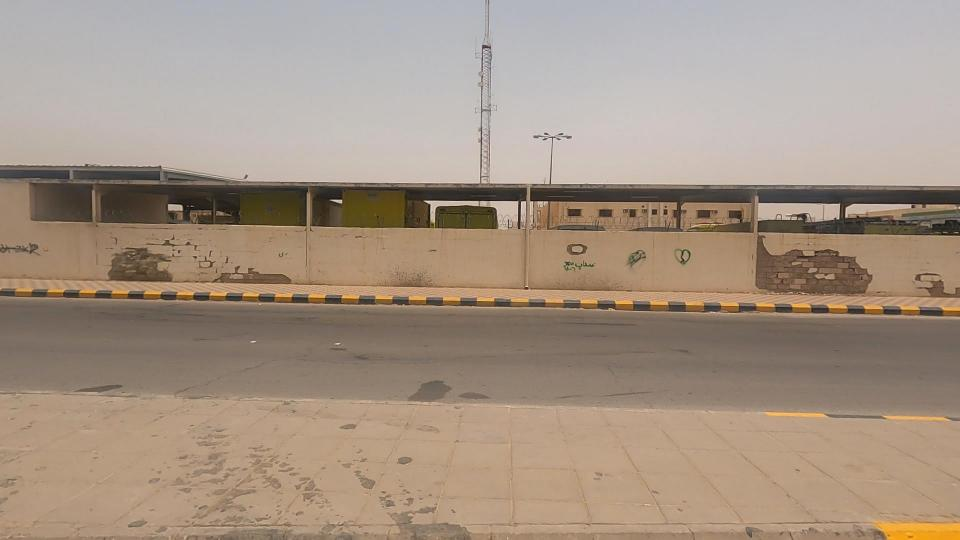GRAFFITI: (0, 201, 75, 291), (526, 246, 628, 287), (653, 222, 713, 290), (608, 232, 655, 281)
UNKEPT_FACADE: (6, 204, 377, 318), (672, 211, 937, 323), (891, 251, 959, 318)
